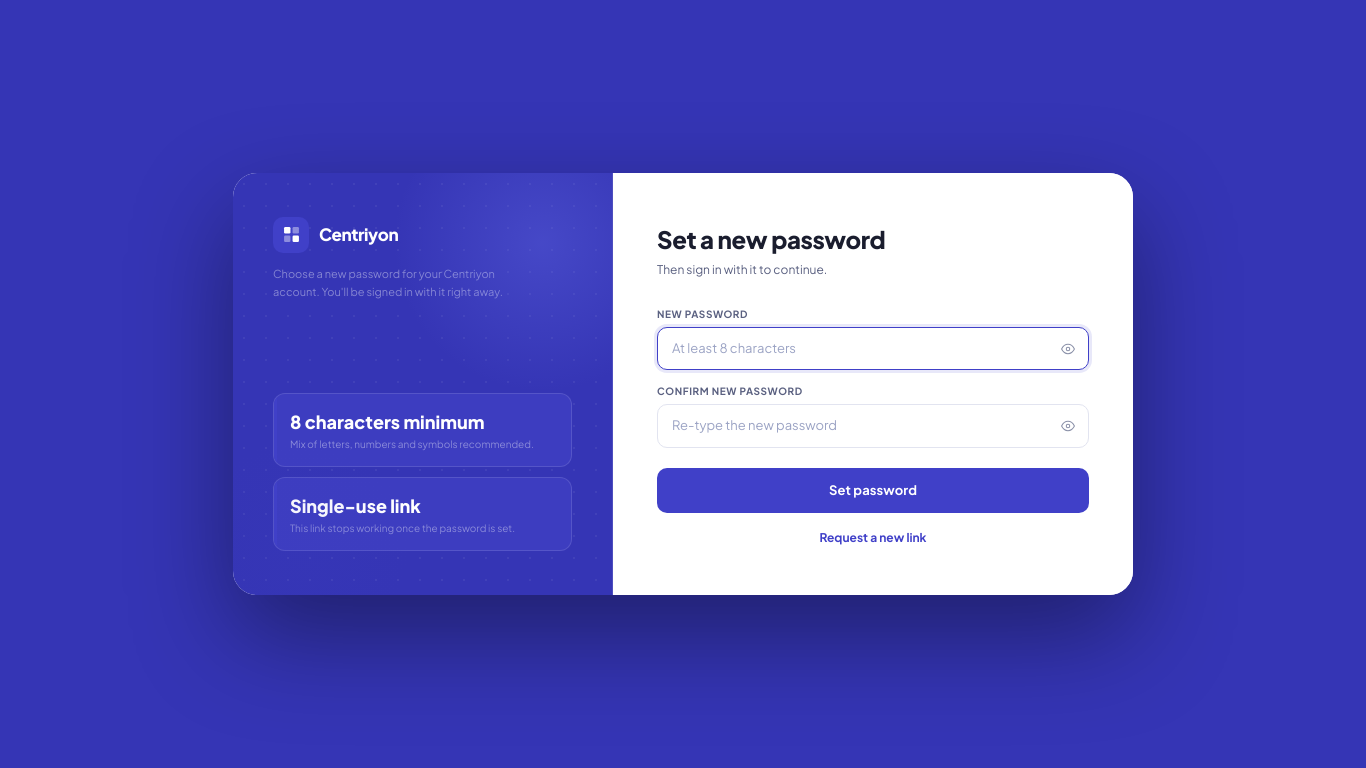
Scenario: reset password › blocks mismatched confirmation before hitting the API
The image size is (1366, 768).
In the password field with placeholder "At least 8 characters": (873, 349) [657,327,1089,370], type "correct-horse"
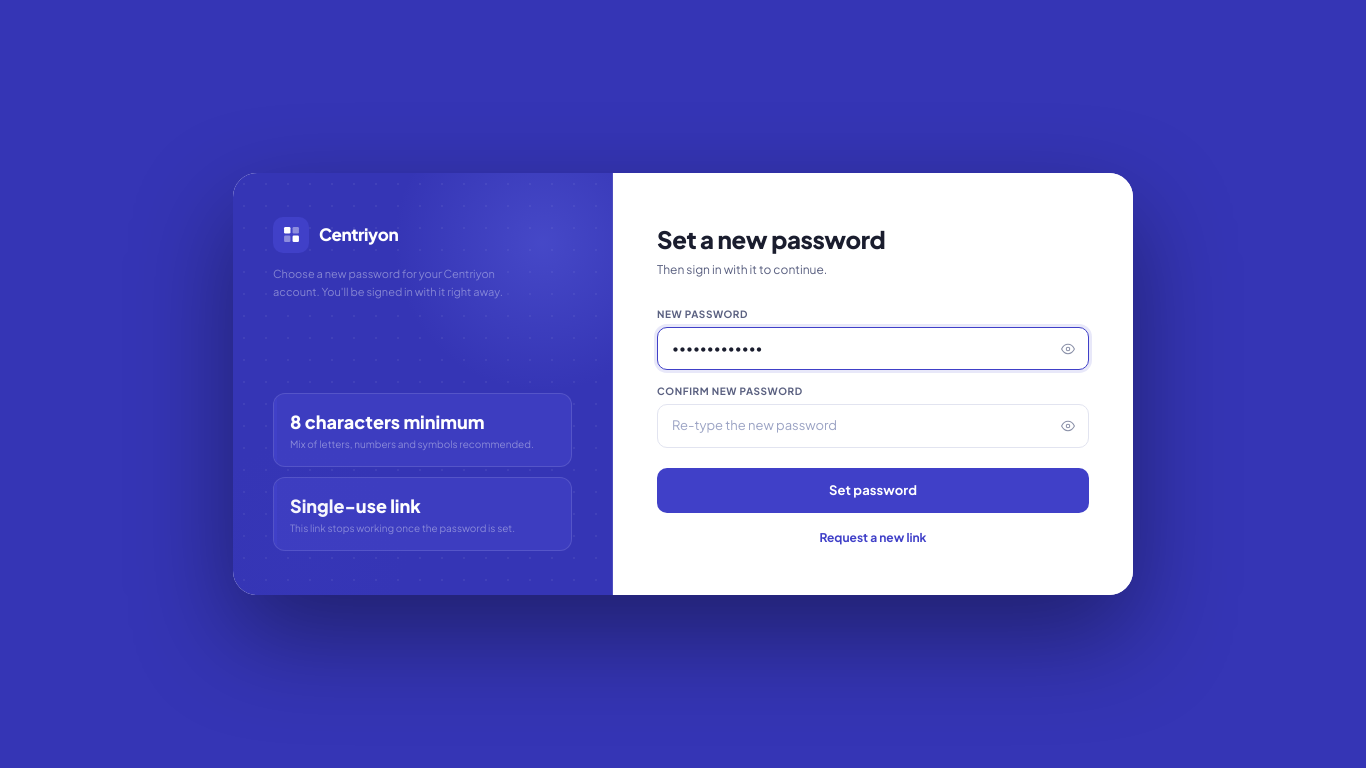
In the password field with placeholder "Re-type the new password": (873, 426) [657,404,1089,448], type "correct-hors"
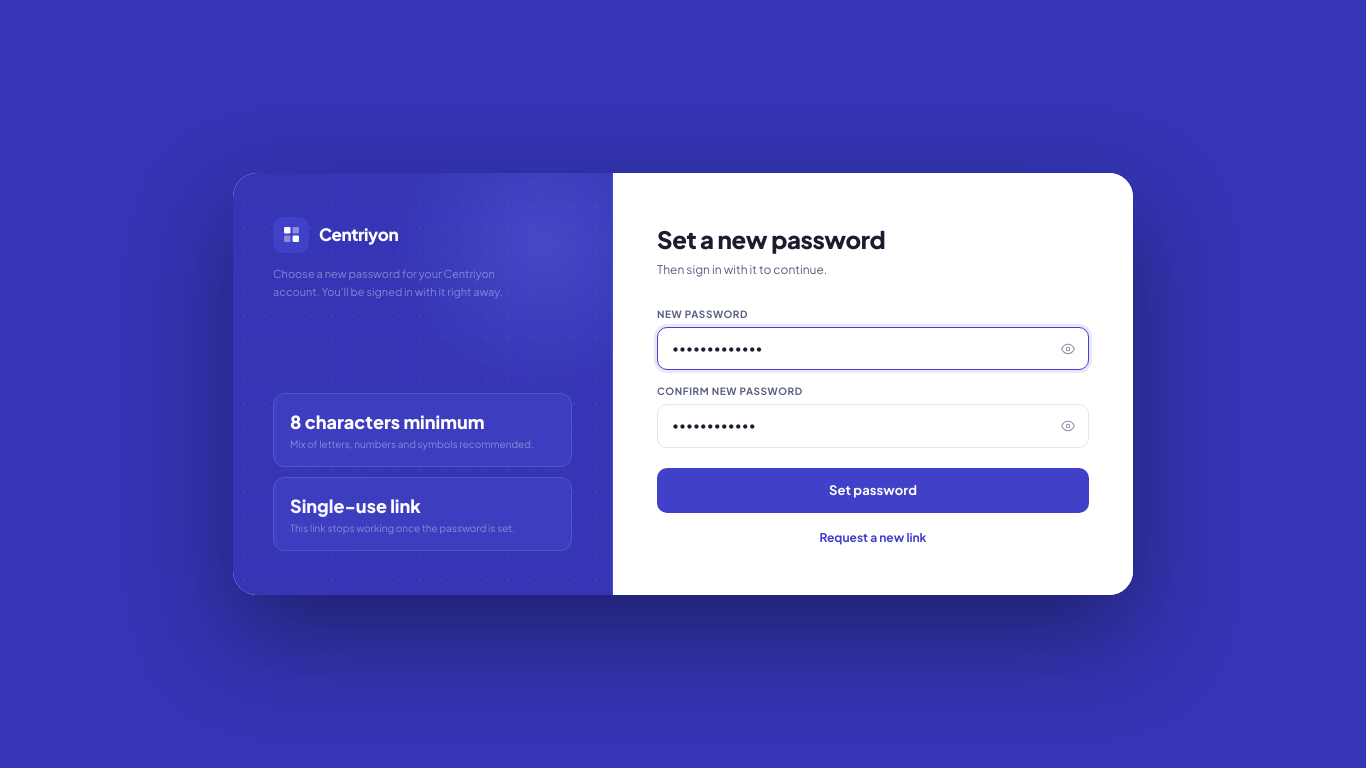
Click the button "Set password": (873, 491) [657,468,1089,513]
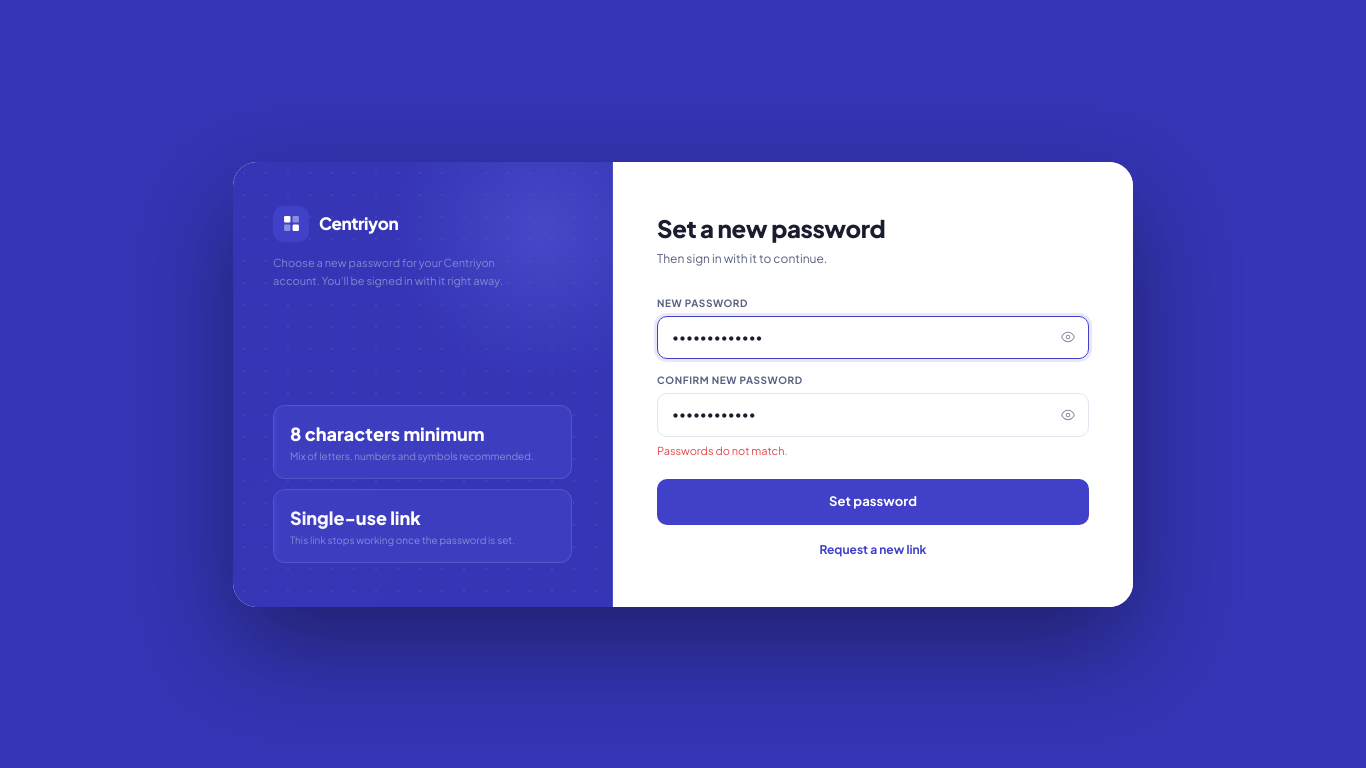
Expected: the text "Passwords do not match." is shown, [657,444,788,456]
